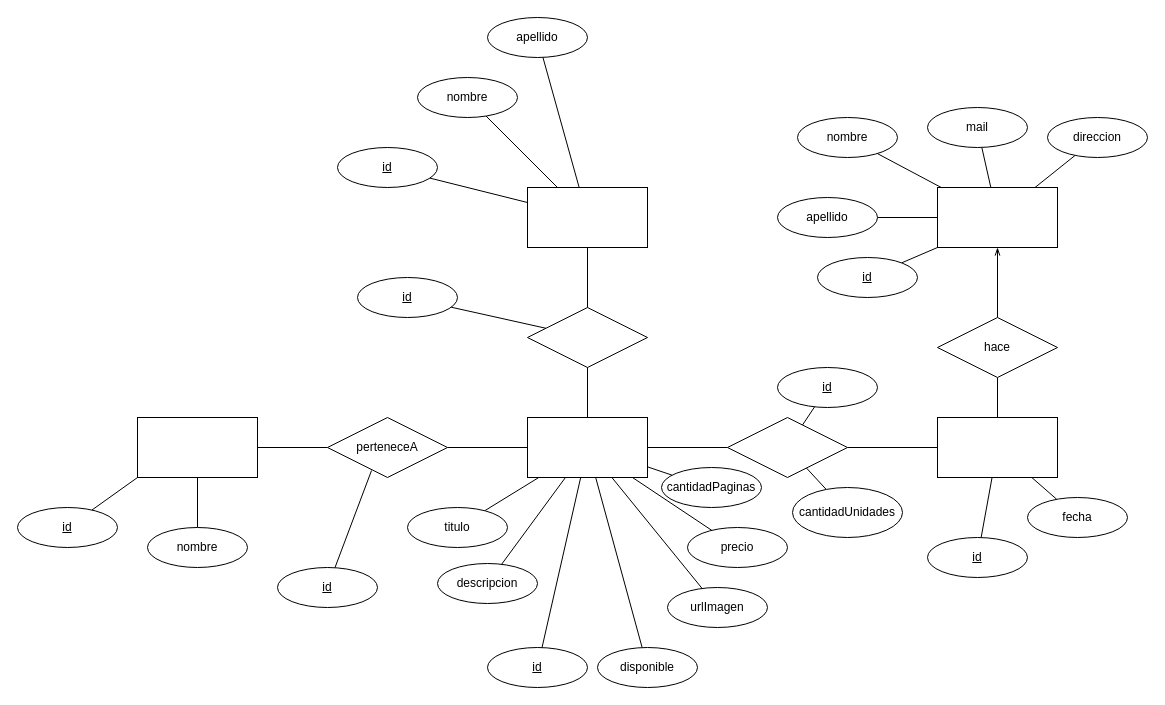
This 1165x705 diagram has some shape labels left out. The shapes that lost their labels are listed below. From the top down, each one's centre as x and y in pixels, then its label:
(587,217): Autor
(997,217): Cliente
(587,337): escritoPor
(197,447): Genero
(587,447): Libro
(787,447): contiene
(997,447): Pedido
